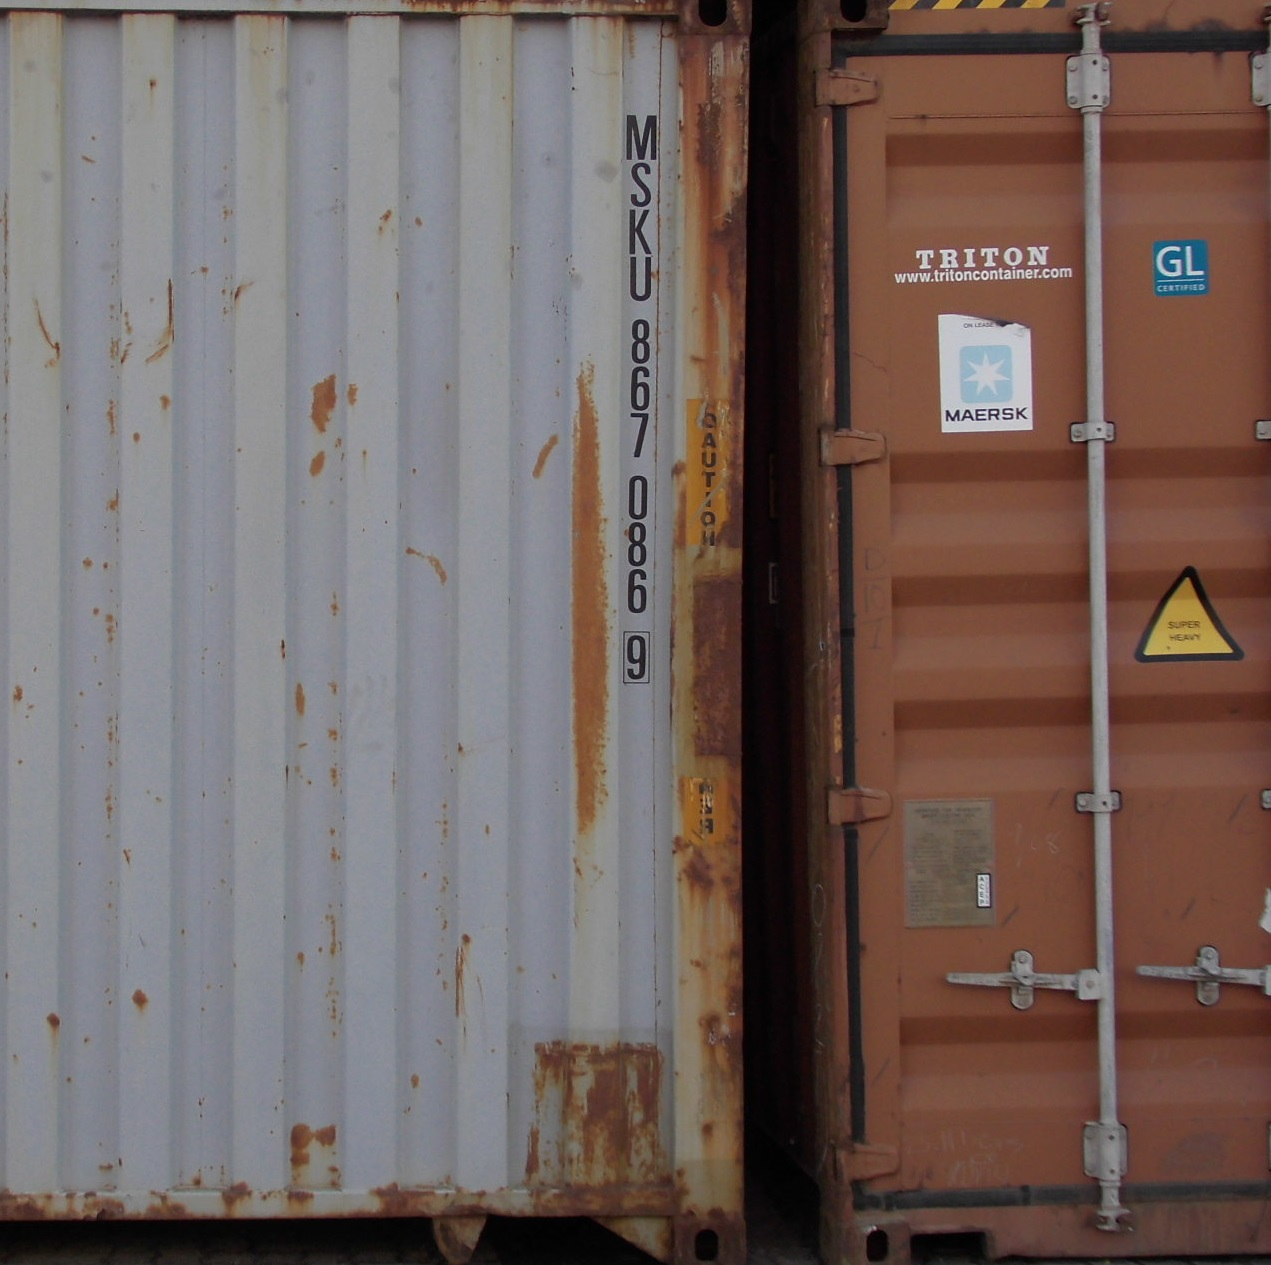container_door: (821, 3, 1266, 1262)
container_no_door: (9, 1, 747, 1263)
